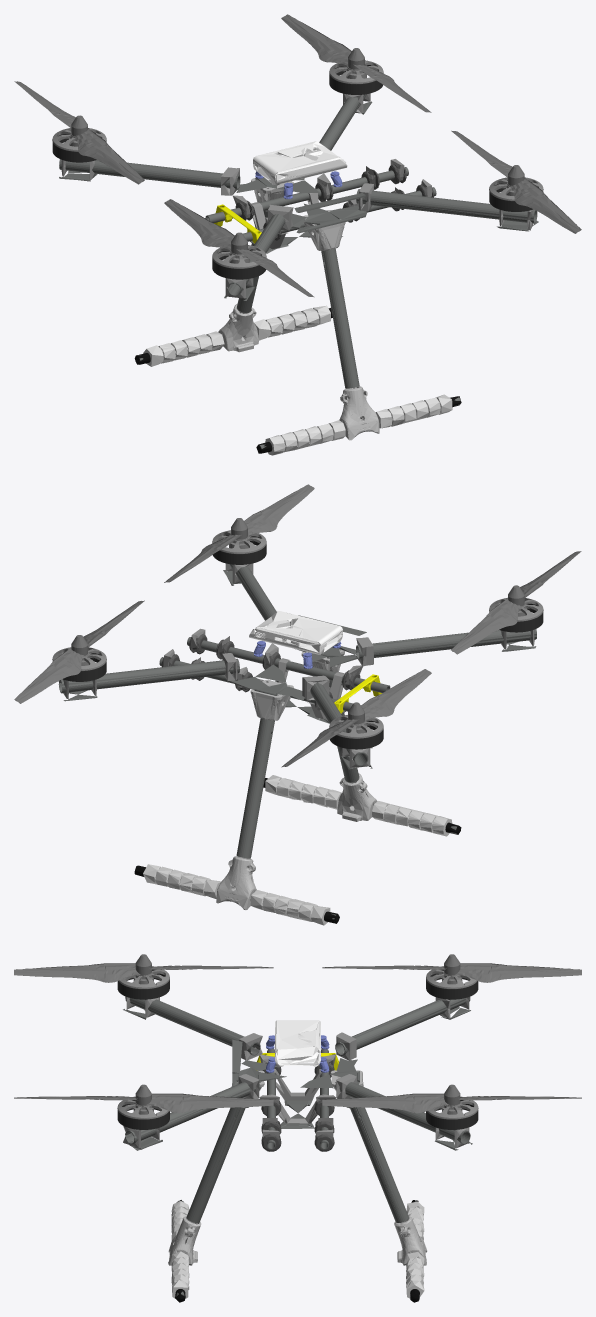
3 renders of one model, top to bottom at view 1: azimuth 30°, elevation 25°; view 2: azimuth 150°, elevation 25°; view 3: azimuth 270°, elevation 25°, orthographic. The views are drawn at different scales.
Parts seen in each view (by area): view 1: base_link_v2, base_link_v0, base_link_v7, base_link_v3, base_link_v5, rotor_3_v0, rotor_2_v0, rotor_1_v0, rotor_0_v0, base_link_v4, rotor_3_v2, rotor_2_v2 (+2 smaller); view 2: base_link_v2, base_link_v0, base_link_v7, base_link_v3, base_link_v5, rotor_1_v0, rotor_0_v0, rotor_2_v0, rotor_3_v0, base_link_v4, rotor_1_v2, rotor_0_v2 (+2 smaller); view 3: base_link_v2, base_link_v3, rotor_0_v0, rotor_2_v0, rotor_1_v0, rotor_3_v0, base_link_v0, base_link_v5, base_link_v7, base_link_v4, rotor_1_v1, rotor_3_v1 (+7 smaller).
Part boxes in pixels (left/top/right/bottom): base_link_v2: left=59, top=94, right=538, bottom=448; base_link_v0: left=143, top=305, right=452, bottom=455; base_link_v7: left=218, top=178, right=379, bottom=440; base_link_v3: left=61, top=93, right=533, bottom=298; base_link_v5: left=253, top=141, right=347, bottom=185; rotor_3_v0: left=164, top=199, right=314, bottom=297; rotor_2_v0: left=281, top=14, right=431, bottom=112; rotor_1_v0: left=14, top=81, right=144, bottom=184; rotor_0_v0: left=451, top=130, right=581, bottom=233; base_link_v4: left=235, top=164, right=434, bottom=240; rotor_3_v2: left=212, top=245, right=266, bottom=268; rotor_2_v2: left=329, top=60, right=383, bottom=83; base_link_v2: left=58, top=564, right=536, bottom=919; base_link_v0: left=143, top=775, right=452, bottom=925; base_link_v7: left=216, top=649, right=377, bottom=909; base_link_v3: left=63, top=563, right=534, bottom=768; base_link_v5: left=249, top=611, right=342, bottom=654; rotor_1_v0: left=281, top=669, right=431, bottom=767; rotor_0_v0: left=164, top=484, right=314, bottom=582; rotor_2_v0: left=14, top=600, right=144, bottom=703; rotor_3_v0: left=451, top=551, right=581, bottom=654; base_link_v4: left=161, top=634, right=360, bottom=710; rotor_1_v2: left=329, top=715, right=383, bottom=738; rotor_0_v2: left=212, top=530, right=266, bottom=553; base_link_v2: left=123, top=996, right=472, bottom=1296; base_link_v3: left=123, top=997, right=469, bottom=1148; rotor_0_v0: left=14, top=1084, right=273, bottom=1113; rotor_2_v0: left=322, top=1084, right=581, bottom=1113; rotor_1_v0: left=322, top=954, right=581, bottom=982; rotor_3_v0: left=14, top=954, right=273, bottom=982; base_link_v0: left=171, top=1201, right=424, bottom=1298; base_link_v5: left=275, top=1020, right=320, bottom=1066; base_link_v7: left=168, top=1070, right=427, bottom=1265; base_link_v4: left=261, top=1062, right=334, bottom=1151; rotor_1_v1: left=426, top=969, right=478, bottom=999; rotor_3_v1: left=117, top=969, right=169, bottom=999.
Size of the model in its own units: 0.4073 by 0.298 by 0.6408.
